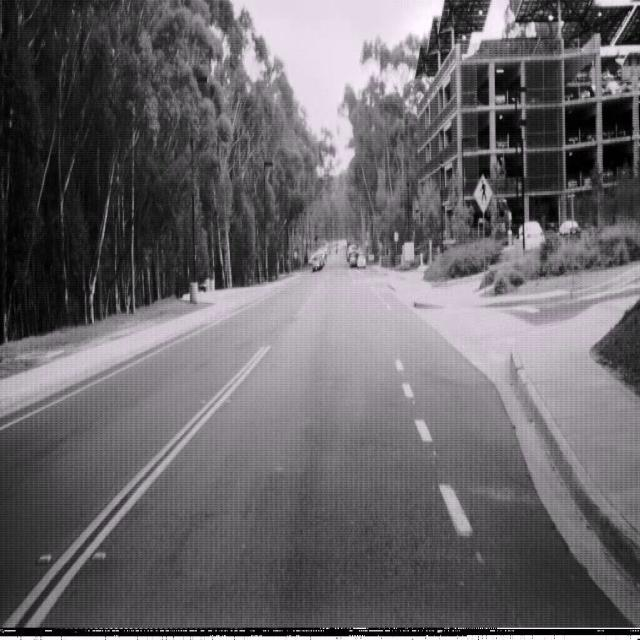pedestrianCrossing: (473, 173, 493, 213)
